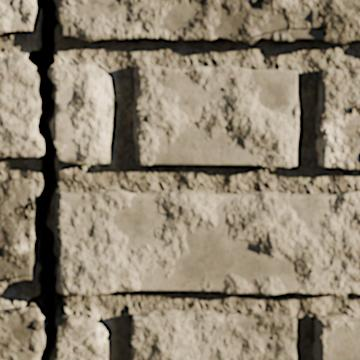brick: (55, 190, 359, 295), (133, 64, 298, 166), (57, 0, 359, 43), (131, 311, 295, 359), (316, 68, 359, 168), (0, 179, 34, 278), (314, 315, 359, 359), (0, 0, 35, 33), (8, 277, 30, 281)
broken_brick: (50, 63, 113, 164), (0, 56, 42, 157), (58, 313, 108, 359), (0, 306, 43, 359)
crack: (2, 0, 65, 359), (241, 26, 326, 43)
